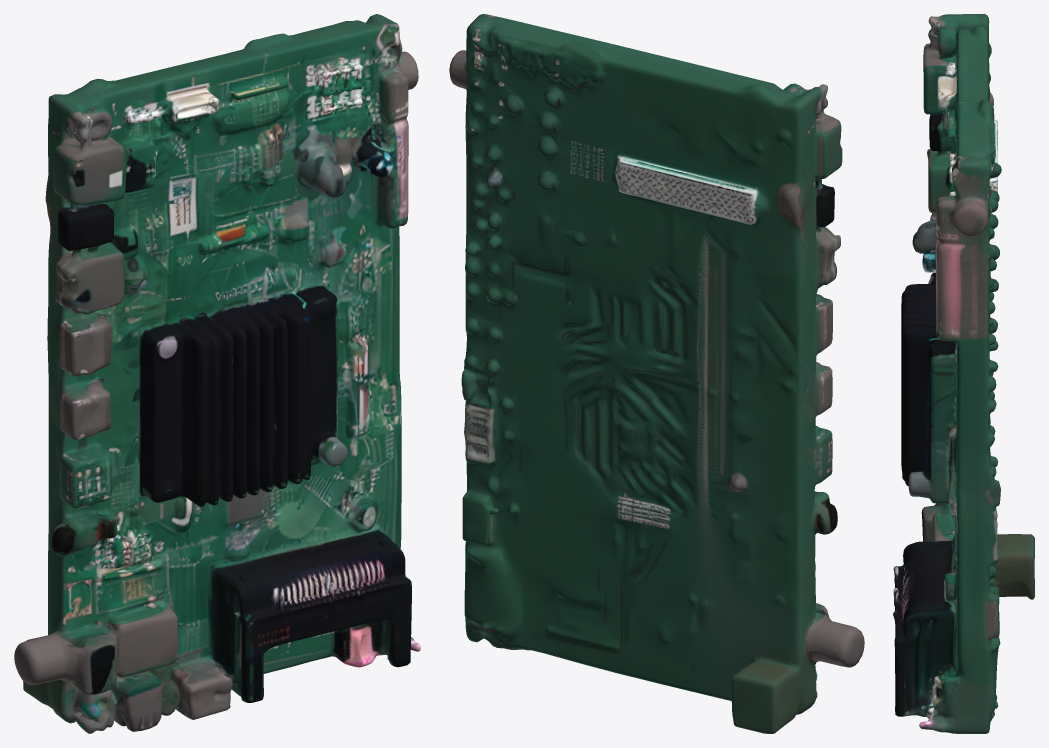
The model's file is mainboard.glb.
3 renders of one model, left to right at view 1: azimuth 30°, elevation 25°; view 2: azimuth 150°, elevation 25°; view 3: azimuth 270°, elevation 25°, orthographic. The views are drawn at different scales.
Parts seen in each view (by area): view 1: texture_v100.001; view 2: texture_v100.001; view 3: texture_v100.001.
Boxes of the visible parts, box(x1,y1,x2,y2) form: texture_v100.001: box(14, 14, 420, 733); texture_v100.001: box(449, 14, 864, 733); texture_v100.001: box(893, 14, 1034, 733).
Bounding box in the file's own units: 0.6906 × 1.05 × 0.2315.
Materials: 1 (1 with a texture image).
